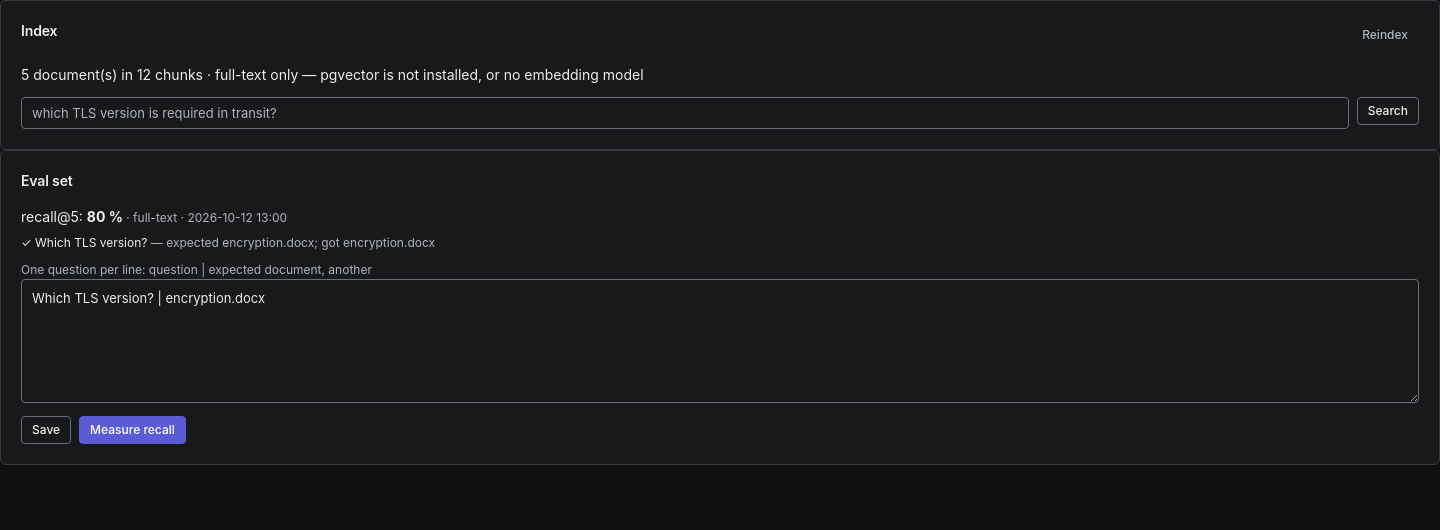
Test case: an index base (S33-03) › shows its state, its recall@5, and searches with citations
This screenshot has width=1440, height=530.
Expected: the text with test id "knowledge-index-state" shows "5 document(s) in 12 chunks · full-text only", [21, 66, 644, 83]
Expected: the element with test id "knowledge-recall" shows "recall@5: 80 %", [21, 208, 287, 225]
Type "TLS" into the field named "Search the knowledge base" at (685, 113), box [21, 97, 1349, 129]
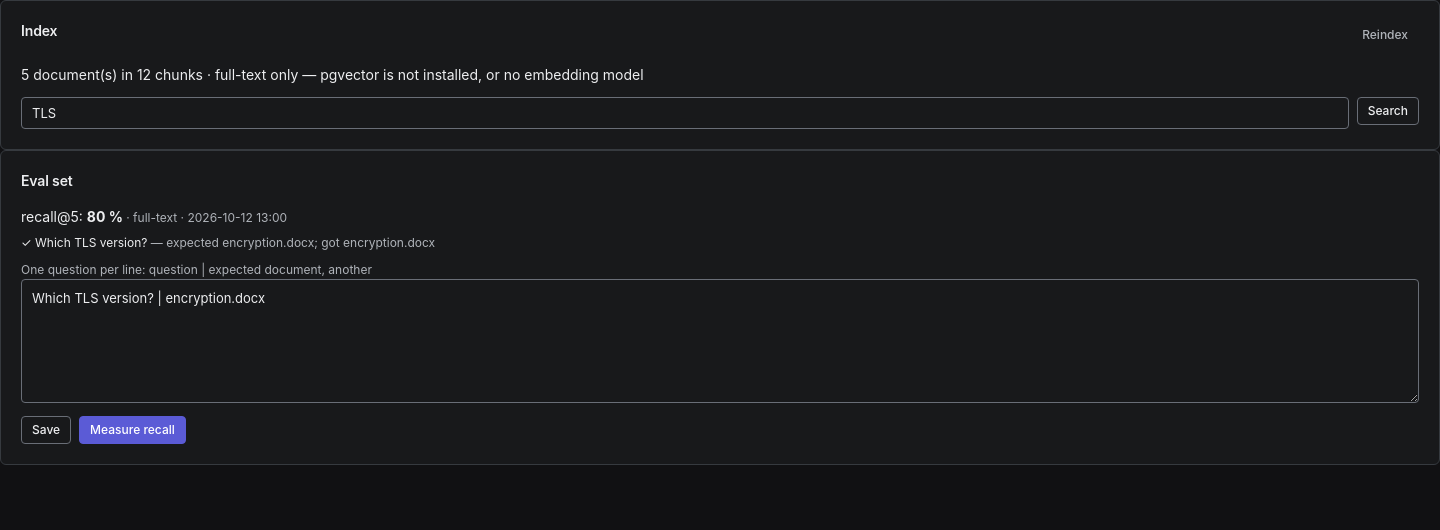
Click the button "Search" at (1388, 111), box [1357, 97, 1419, 125]
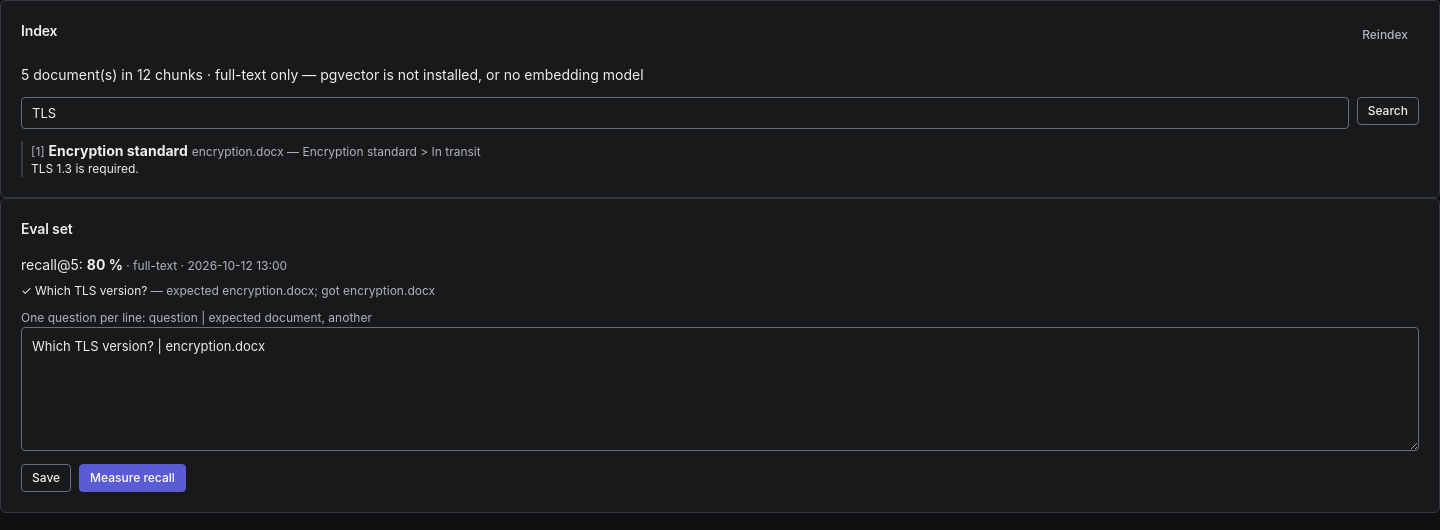
Expected: the list with test id "knowledge-hits" shows "Encryption standard", [49, 142, 188, 159]
Expected: the list with test id "knowledge-hits" shows "encryption.docx — Encryption standard > In transit", [21, 141, 1419, 177]
